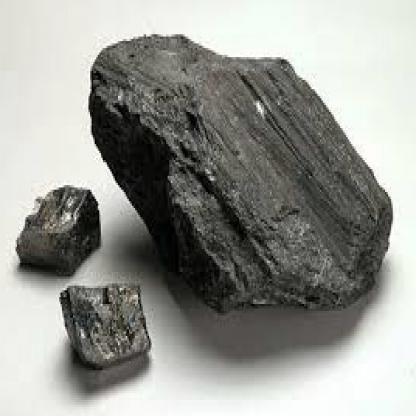Sedimentary_coal: (79, 21, 399, 300), (56, 281, 149, 375), (16, 183, 107, 274)
